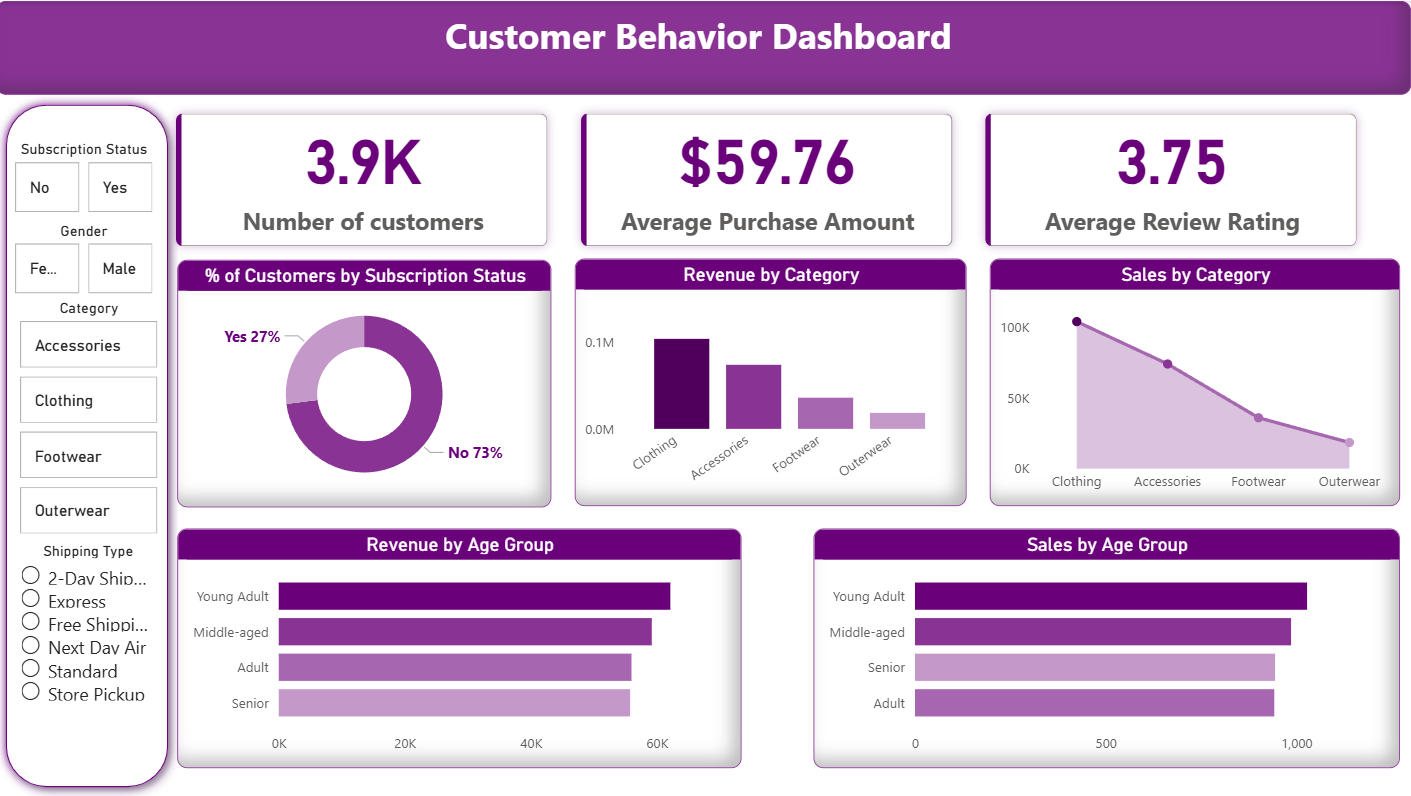

What the dashboard file says about the page in this screenshot:
{"tool":"powerbi","page":{"name":"Page 1","canvas":[1280,720],"ordinal":0},"visuals":[{"type":"cardVisual","fields":{"Data":["customer_shopping_behavior_cleaned.Number of customers","customer_shopping_behavior_cleaned.average purchave amount","customer_shopping_behavior_cleaned.average review rating"]},"box":[147.1,85.7,1100,152.9],"z":0},{"type":"donutChart","title":"% of Customers by Subscription Status ","fields":{"Category":["customer_shopping_behavior_cleaned.subscription_status"],"Y":["CountNonNull(customer_shopping_behavior_cleaned.customer_id)"]},"box":[164.3,234.3,338.6,224.3],"z":1000},{"type":"clusteredColumnChart","title":"Revenue by Category","fields":{"Y":["Sum(customer_shopping_behavior_cleaned.purchase_amount)"],"Category":["customer_shopping_behavior_cleaned.category"]},"box":[523.6,232.9,354.3,224.3],"z":2000},{"type":"stackedAreaChart","title":"Sales by Category","fields":{"Category":["customer_shopping_behavior_cleaned.category"],"Y":["Sum(customer_shopping_behavior_cleaned.purchase_amount)"]},"box":[898.6,232.9,371.4,224.3],"z":3000},{"type":"textbox","box":[0,0,1280.3,85.1],"z":4000},{"type":"barChart","title":"Revenue by Age Group","fields":{"Y":["Sum(customer_shopping_behavior_cleaned.purchase_amount)"],"Category":["customer_shopping_behavior_cleaned.age_group"]},"box":[164.3,477.1,510,217.1],"z":5000},{"type":"barChart","title":"Sales by Age Group","fields":{"Y":["CountNonNull(customer_shopping_behavior_cleaned.customer_id)"],"Category":["customer_shopping_behavior_cleaned.age_group"]},"box":[740,477.1,530,217.1],"z":6000},{"type":"shape","box":[0,85.1,164.7,635.3],"z":7000},{"type":"advancedSlicerVisual","fields":{"Values":["customer_shopping_behavior_cleaned.subscription_status"]},"box":[12.3,126.2,134.5,70],"z":8000},{"type":"advancedSlicerVisual","fields":{"Values":["customer_shopping_behavior_cleaned.gender"]},"box":[12.3,200.3,134.5,70],"z":9000},{"type":"advancedSlicerVisual","fields":{"Values":["customer_shopping_behavior_cleaned.category"]},"box":[16.5,270.3,134.5,219.6],"z":10000},{"type":"listSlicer","fields":{"Values":["customer_shopping_behavior_cleaned.shipping_type"]},"box":[16.5,489.9,133.1,194.9],"z":11000}]}

Visuals, with their boxes in screenshot pixels (x1, y1, x2, y2), scaled from the page's 1280x720 canvas onto the 1411x796 screenshot:
cardVisual - customer_shopping_behavior_cleaned.Number of customers x customer_shopping_behavior_cleaned.average purchave amount: 162,95,1375,264
"% of Customers by Subscription Status " donutChart: 181,259,554,507
"Revenue by Category" clusteredColumnChart: 577,257,968,505
"Sales by Category" stackedAreaChart: 991,257,1400,505
textbox: 0,0,1410,94
"Revenue by Age Group" barChart: 181,527,743,767
"Sales by Age Group" barChart: 816,527,1400,767
shape: 0,94,182,795
advancedSlicerVisual - customer_shopping_behavior_cleaned.subscription_status: 14,140,162,217
advancedSlicerVisual - customer_shopping_behavior_cleaned.gender: 14,221,162,299
advancedSlicerVisual - customer_shopping_behavior_cleaned.category: 18,299,166,542
listSlicer - customer_shopping_behavior_cleaned.shipping_type: 18,542,165,757
